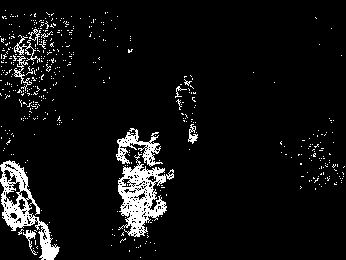person: (175, 73, 199, 145)
